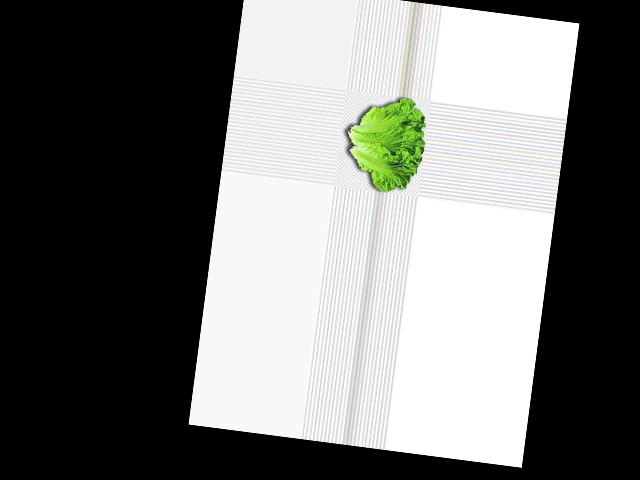lettuce: (345, 93, 429, 220)
